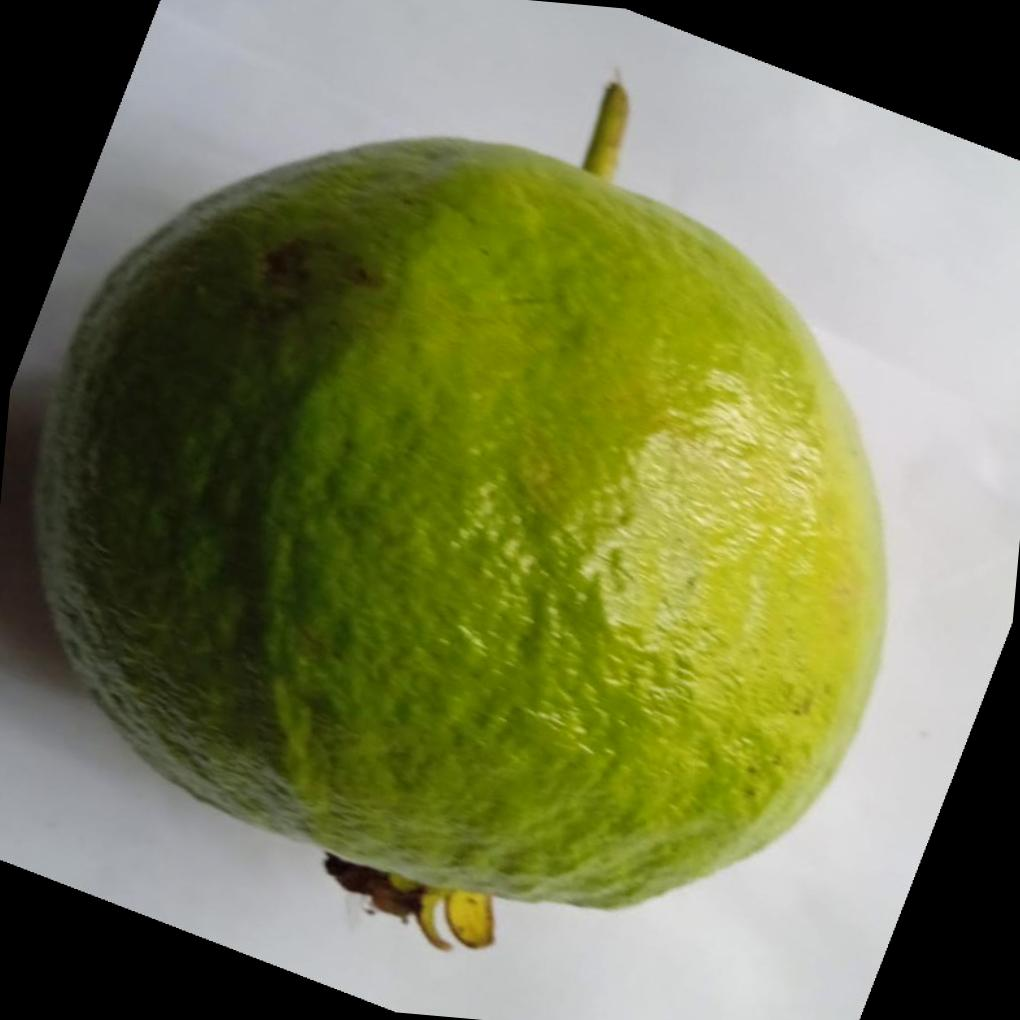FreshGuava: (23, 132, 885, 910)
